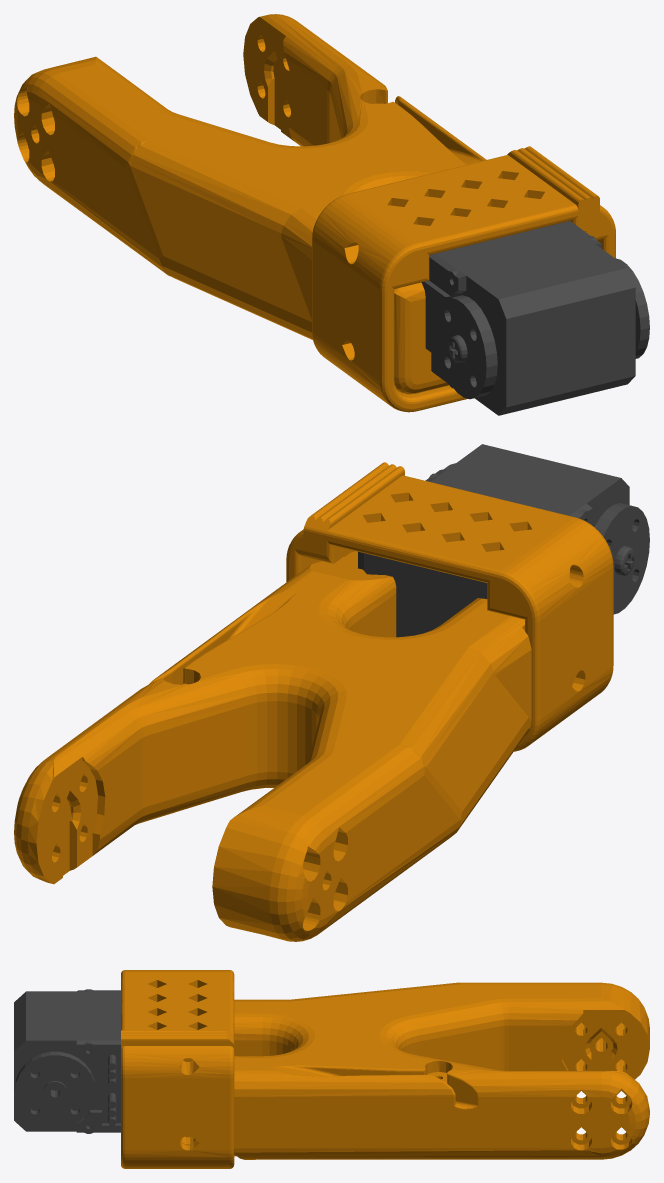
Rendered from Lower_Arm.glb.
3 renders of one model, top to bottom at view 1: azimuth 30°, elevation 25°; view 2: azimuth 150°, elevation 25°; view 3: azimuth 270°, elevation 25°, orthographic. The views are drawn at different scales.
Parts seen in each view (by area): view 1: Lower_Arm_0, Lower_Arm_1; view 2: Lower_Arm_0, Lower_Arm_1; view 3: Lower_Arm_0, Lower_Arm_1.
Boxes of the visible parts, bbox=[...] form: Lower_Arm_0: bbox=[14, 14, 615, 412]; Lower_Arm_1: bbox=[421, 221, 649, 415]; Lower_Arm_0: bbox=[14, 462, 613, 941]; Lower_Arm_1: bbox=[358, 444, 649, 637]; Lower_Arm_0: bbox=[121, 970, 649, 1168]; Lower_Arm_1: bbox=[14, 989, 120, 1133].
Size of the model in its own units: 0.0612 by 0.0369 by 0.1571.
